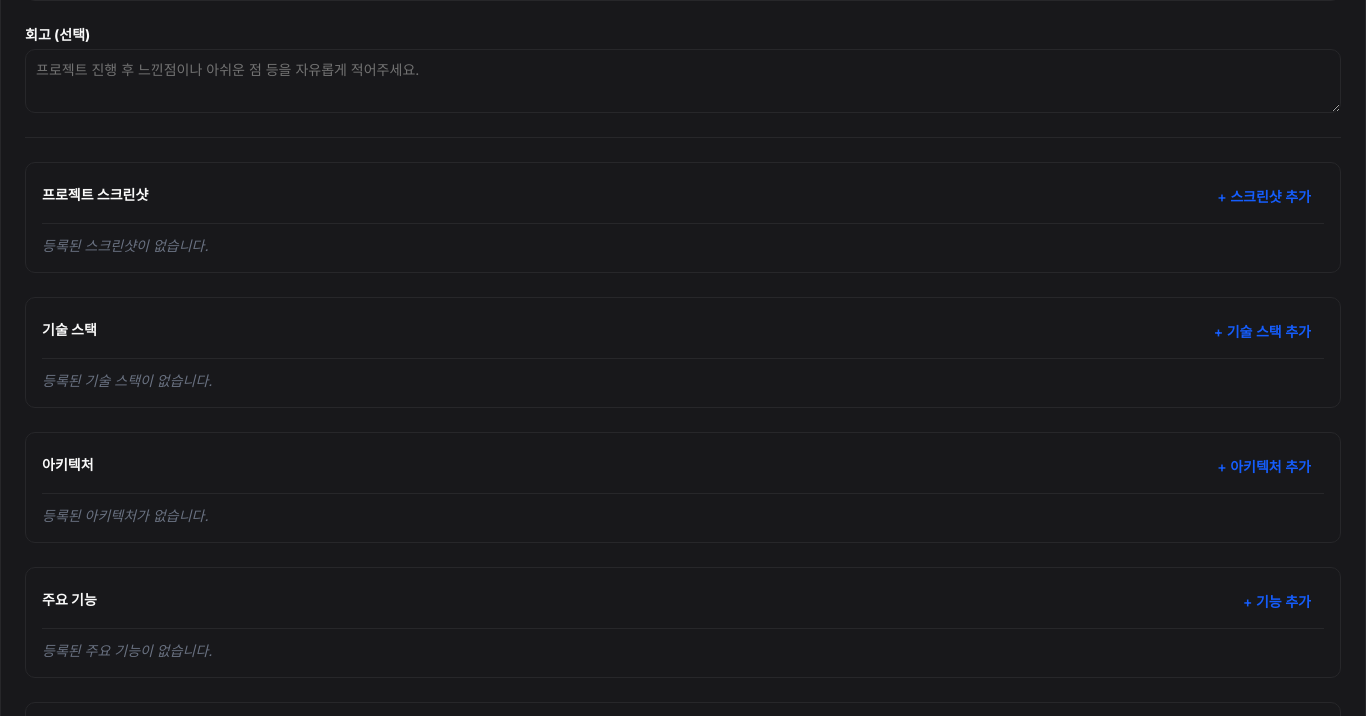
Test: ProjectForm 컴포넌트 › tech_stacks 항목 추가 버튼 클릭 시 새로운 필드가 렌더링되어야 한다
(page scrolled)
Click the button "+ 기술 스택 추가": (1262, 332) [1201,314,1324,350]
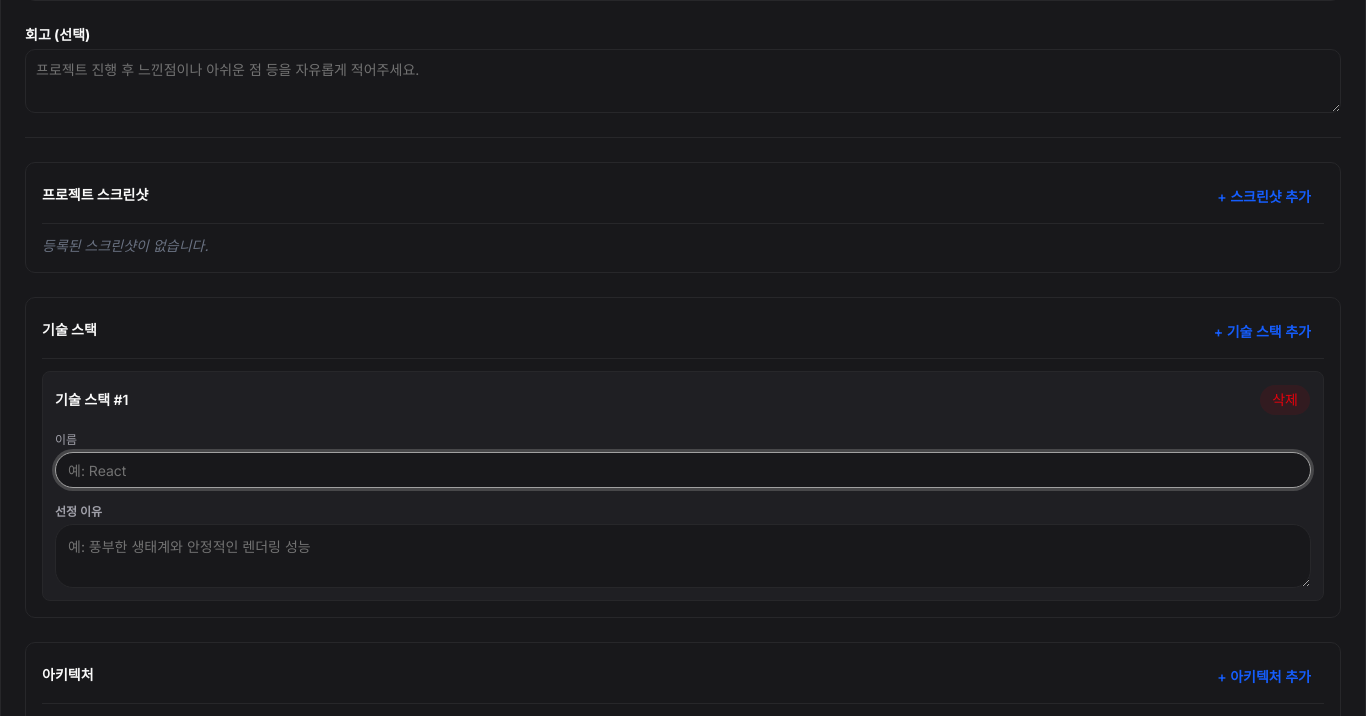
Now the field with placeholder "예: React" is shown, box [55,452,1311,488]
